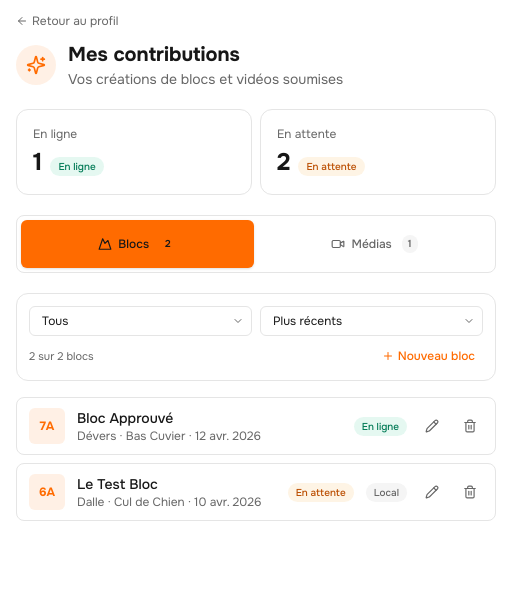
Test case: ContributionsPage › with contribution data › switches to the media tab and lists video submissions
The width and height of the screenshot is (513, 602).
Click the tab with test id "tab-media".
click(374, 244)  # box [258,220,491,268]
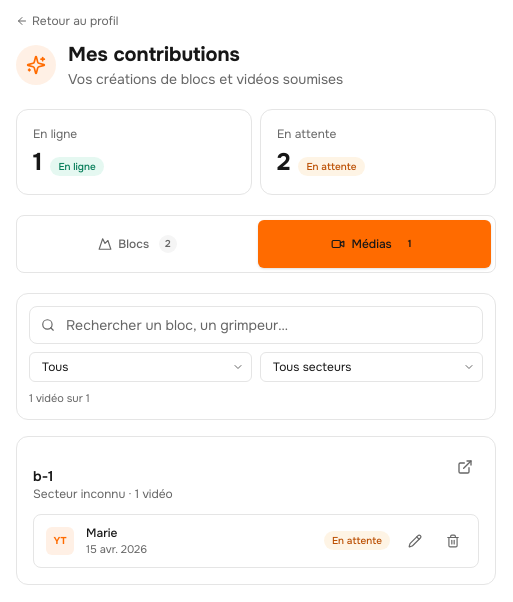
Now the text "Marie" is shown, box [86,524,117,540]
